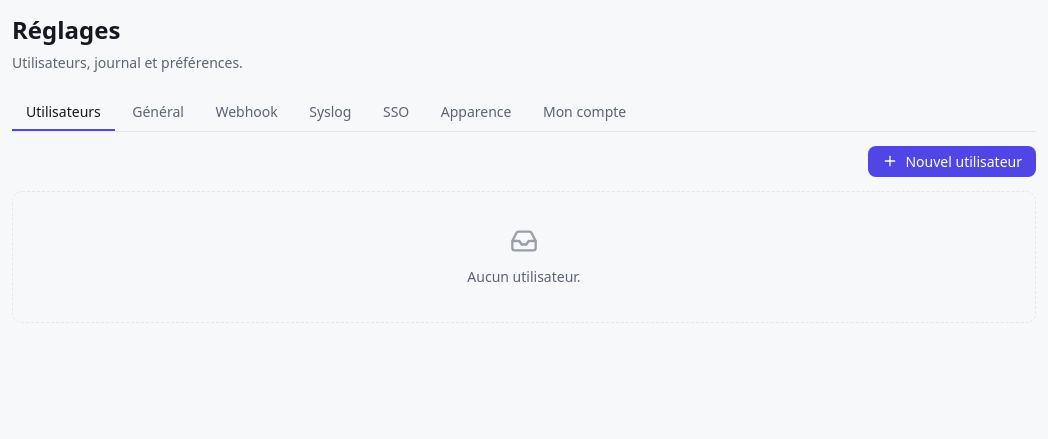
Test case: choix de la langue › bascule l'interface en anglais depuis Réglages → Apparence et mémorise le choix
The width and height of the screenshot is (1048, 439).
Click the tab "Apparence".
click(476, 112)  # box [427,94,526,130]
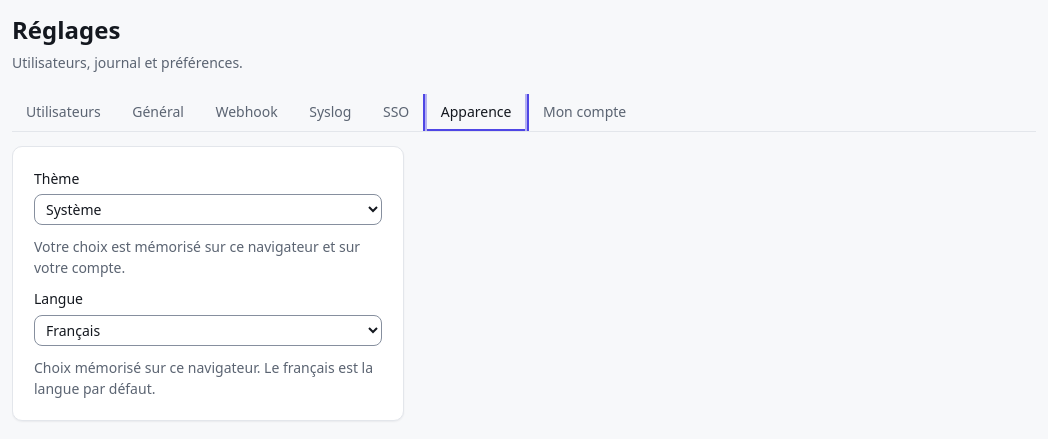
Select "English" in the dropdown labelled "Langue" at [208, 330], box [34,314,382,346]
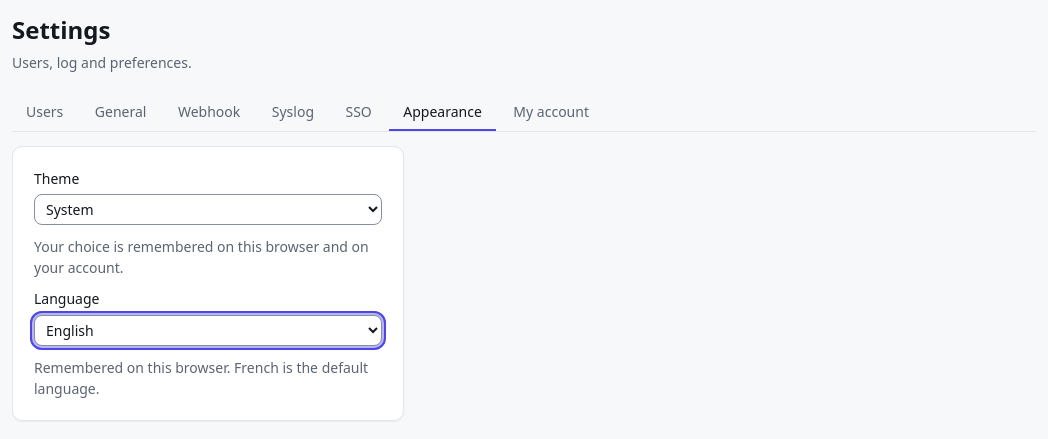
Expected: the tab "Appearance" is shown, [389,94,496,130]
Select "Français" in the dropdown labelled "Language" at [208, 330], box [34,314,382,346]
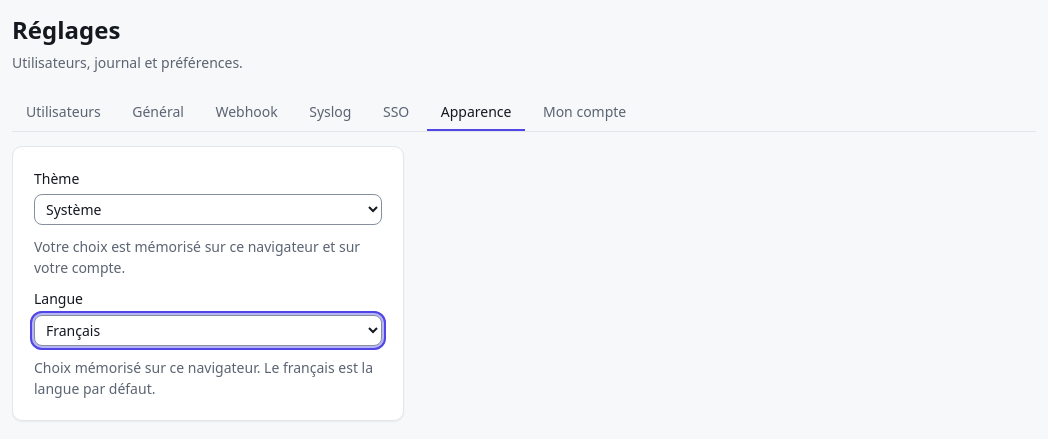
Expected: the tab "Apparence" is shown, [427,94,526,130]
